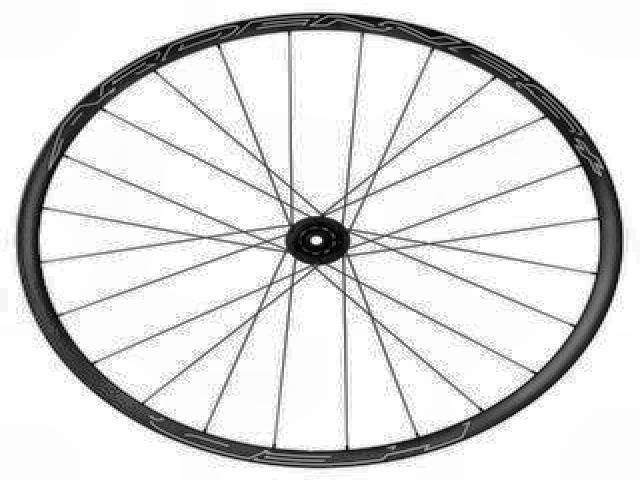wheel: (14, 6, 630, 473)
